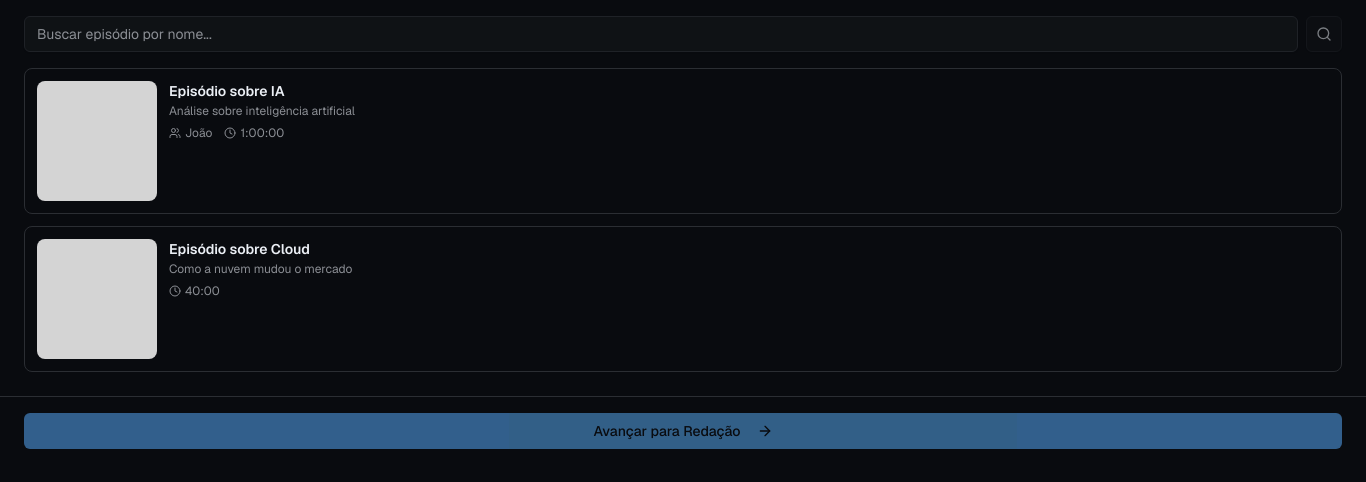
Test: NewsEpisodesPhase › performs text search on button click and shows results
# Type search query
Type "Kubernetes" into the field with test id "episode-search-input".
click(661, 34); type("Kubernetes")  # box [24, 16, 1298, 52]
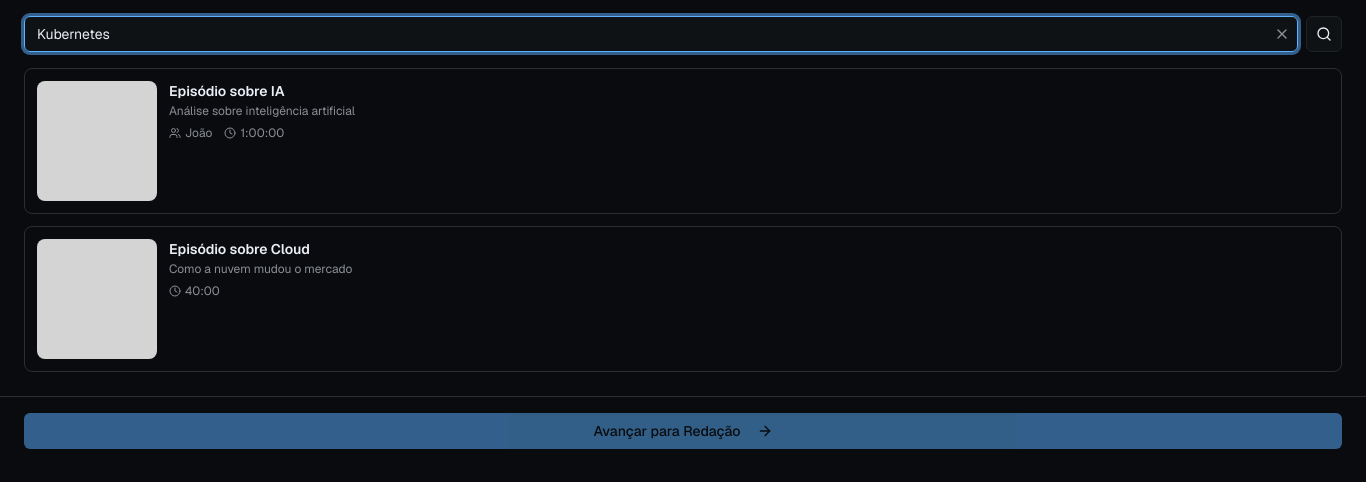
# Click search button
Click the button with test id "episode-search-button".
click(1324, 34)  # box [1306, 16, 1342, 52]
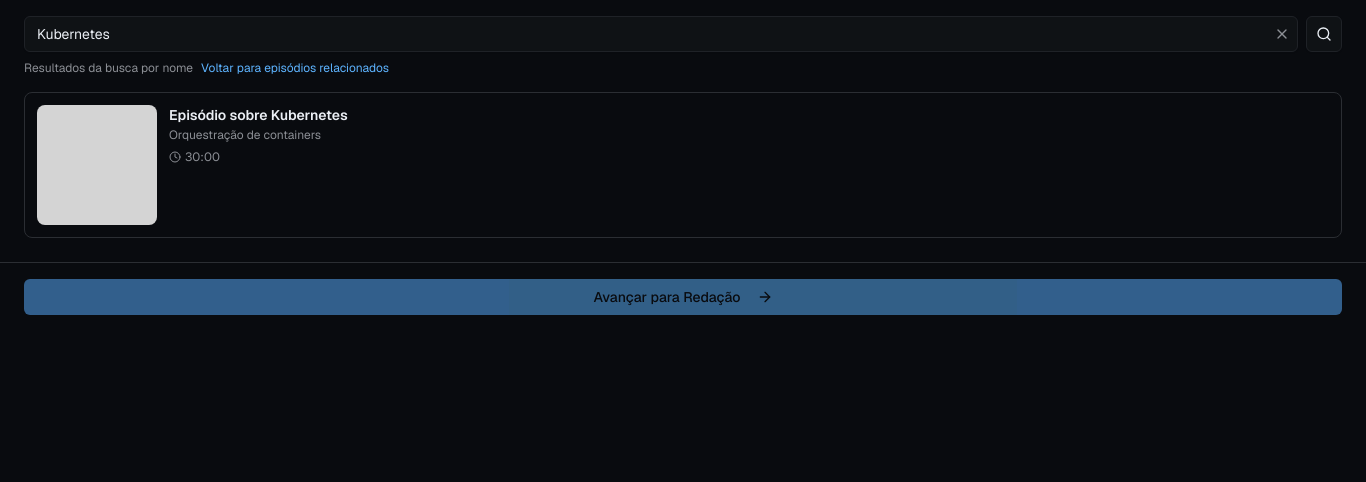
Check: the button with test id "episode-card-ep-3" is shown, box [24, 92, 1342, 238]
Check: the text "Resultados da busca por nome" is shown, box [24, 60, 193, 76]
Check: the button with test id "episode-card-ep-1" is gone
